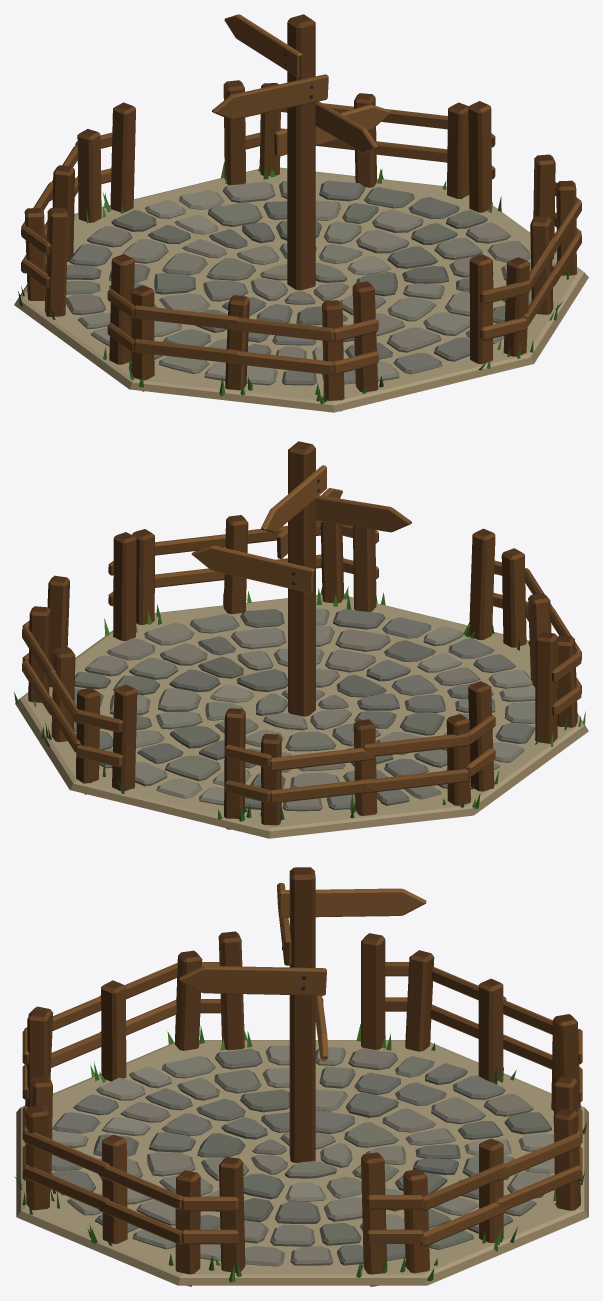
File: logistics-center.glb
The picture shows the model from 3 angles, top to bottom: view 1: azimuth 30°, elevation 25°; view 2: azimuth 150°, elevation 25°; view 3: azimuth 270°, elevation 25°; orthographic projection. The views are drawn at different scales.
Visible parts, largest first — view 1: TownToonLogistics; view 2: TownToonLogistics; view 3: TownToonLogistics.
Part boxes in pixels (x1,y1,x2,y2): TownToonLogistics: (14, 14, 588, 412); TownToonLogistics: (14, 441, 588, 838); TownToonLogistics: (14, 867, 588, 1286).
Size of the model in its own units: 5.01 by 2.9 by 5.02.
